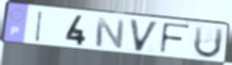4: (64, 14, 88, 47)
F: (158, 21, 192, 56)
I: (34, 10, 45, 44)
N: (94, 16, 127, 50)
U: (192, 25, 226, 60)
V: (127, 18, 161, 54)
